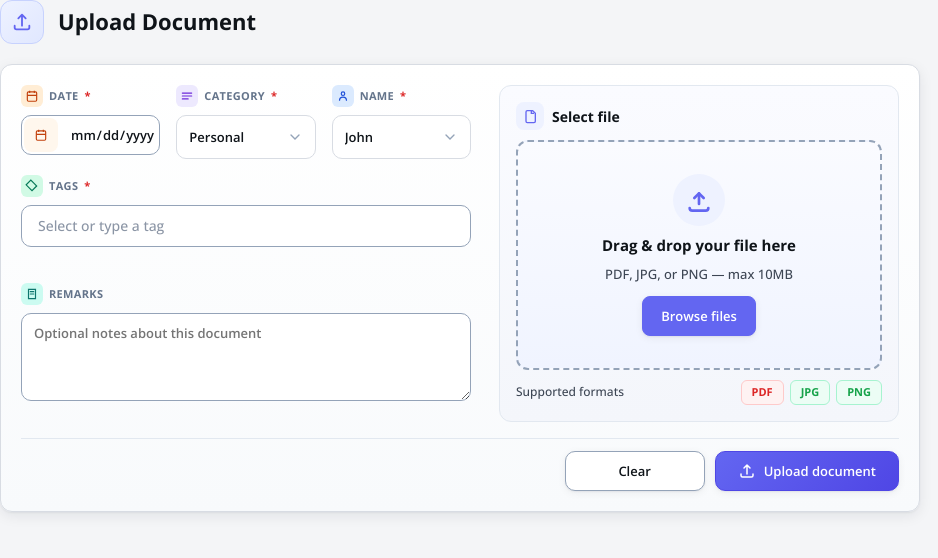
Test case: UploadDocumentPage › shows validation when required fields are missing
Click the button "Upload document" at (807, 470), box [715,450,899,490]
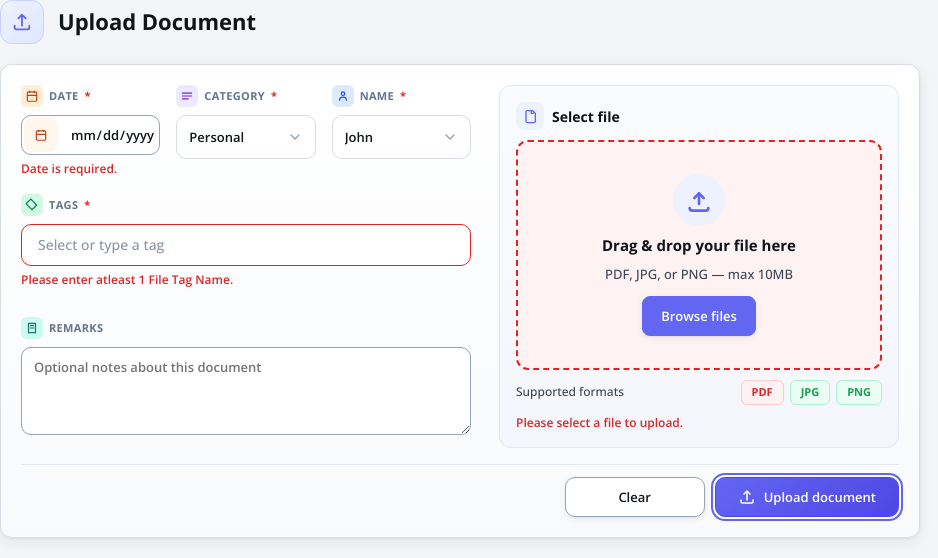
Result: the text "Please select a file to upload." is shown at [516,414,683,430]
Result: the text "Date is required." is shown at [21,160,117,177]
Result: the text "Please enter atleast 1 File Tag Name." is shown at [21,271,233,288]
